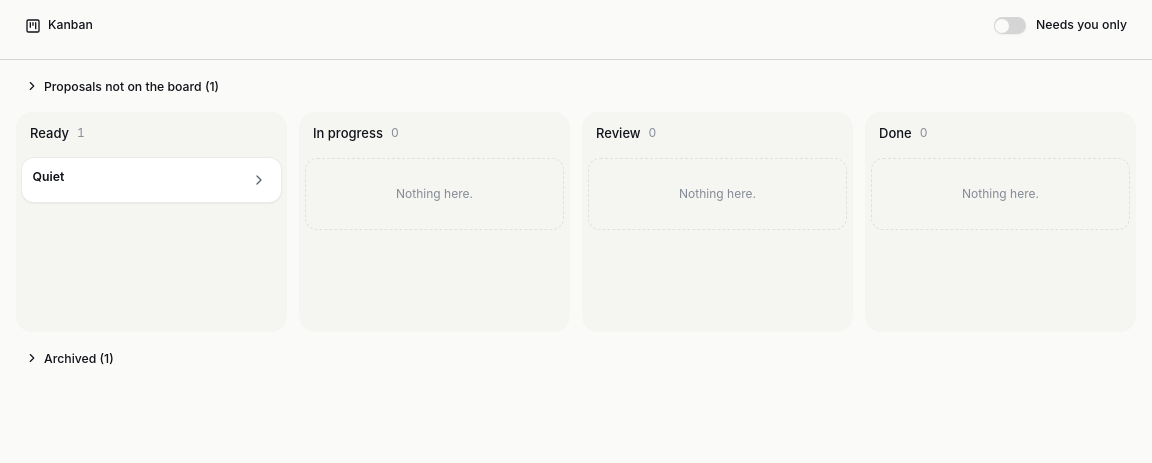
Scenario: TaskBoardView on official components (#259) › lists proposals and archived Tasks as official Item rows, and says an empty column or filter with Empty
The image size is (1152, 463).
Step 1. Click the button "Archived (1)" → (79, 358), box left=16, top=344, right=1136, bottom=372
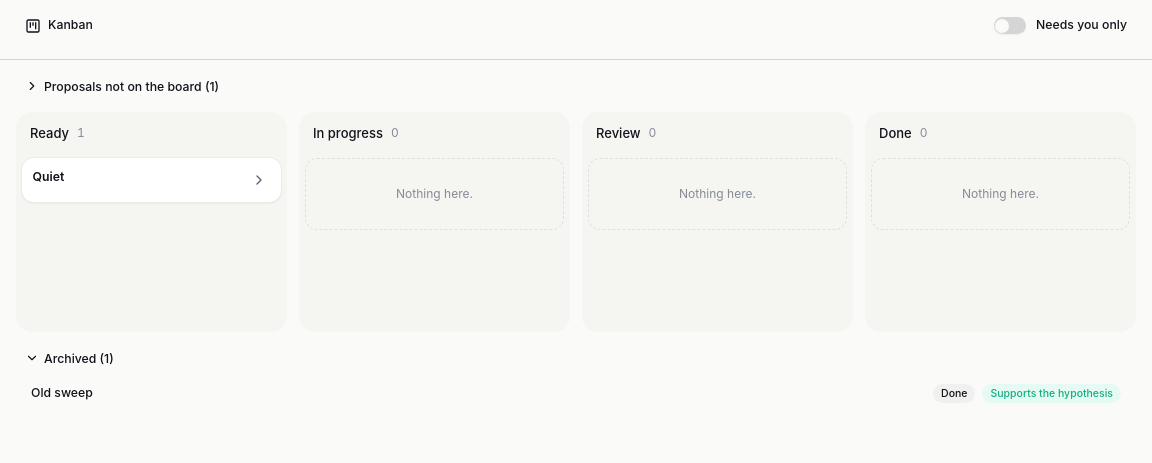
Step 2. Click the button "Proposals not on the board (1)" → (132, 86), box left=16, top=72, right=1136, bottom=100
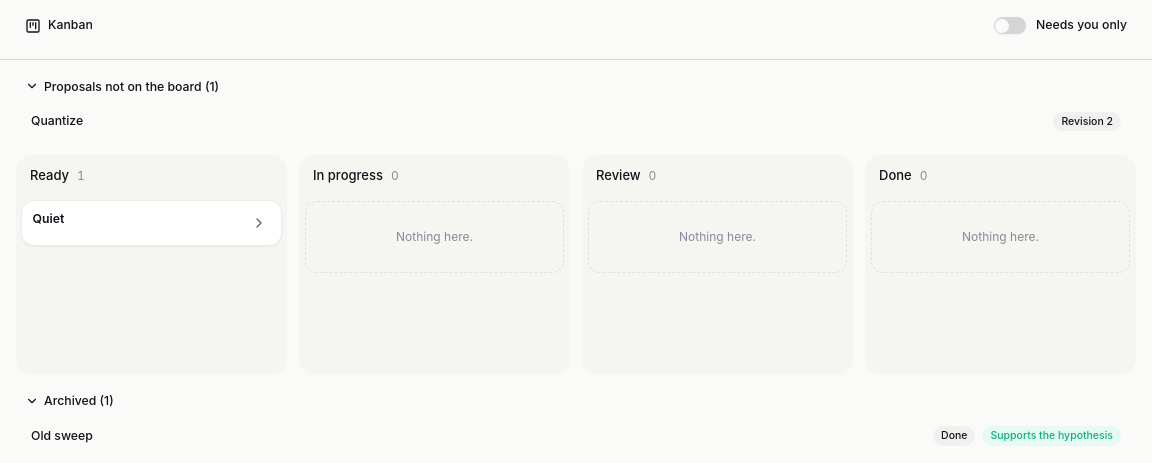
Check: the text "Nothing here." below "Review" is shown, box left=679, top=229, right=756, bottom=244
Step 3. Click the switch → (1010, 26), box left=994, top=17, right=1026, bottom=34
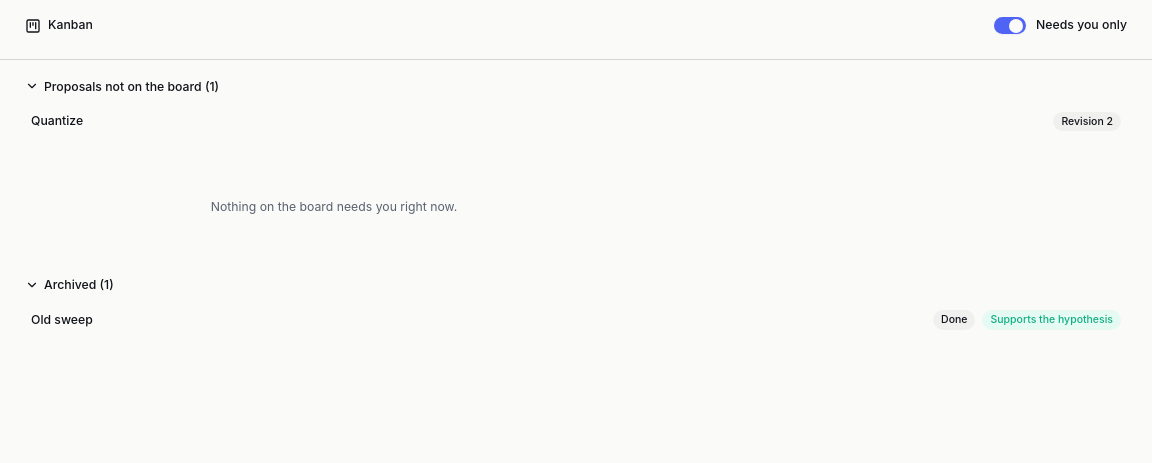
Check: the text "Nothing on the board needs you right now." is shown, box left=211, top=199, right=457, bottom=214
